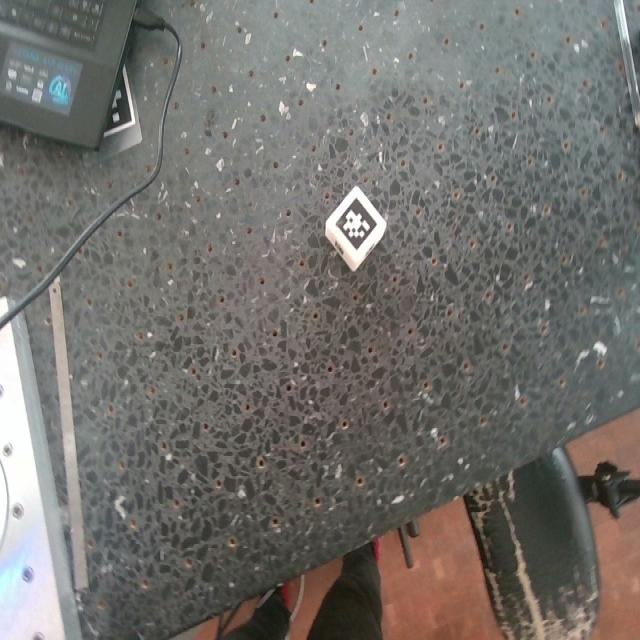Cube: (324, 187, 388, 273)
